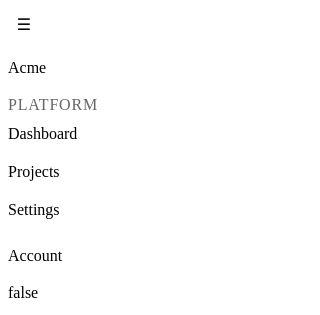
Sidebar › toggles the shared state, and the parts follow
The image size is (320, 315).
Click the button named "Toggle sidebar" at point(24, 24), box [8,8,40,40]
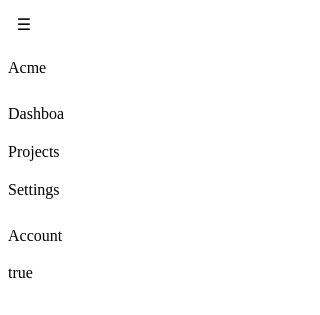
Expected: the text with test id "collapsed" reads "true", [8,264,33,281]
Expected: the icon with class "sve-sidebar--collapsed" is shown, [8,40,64,264]
